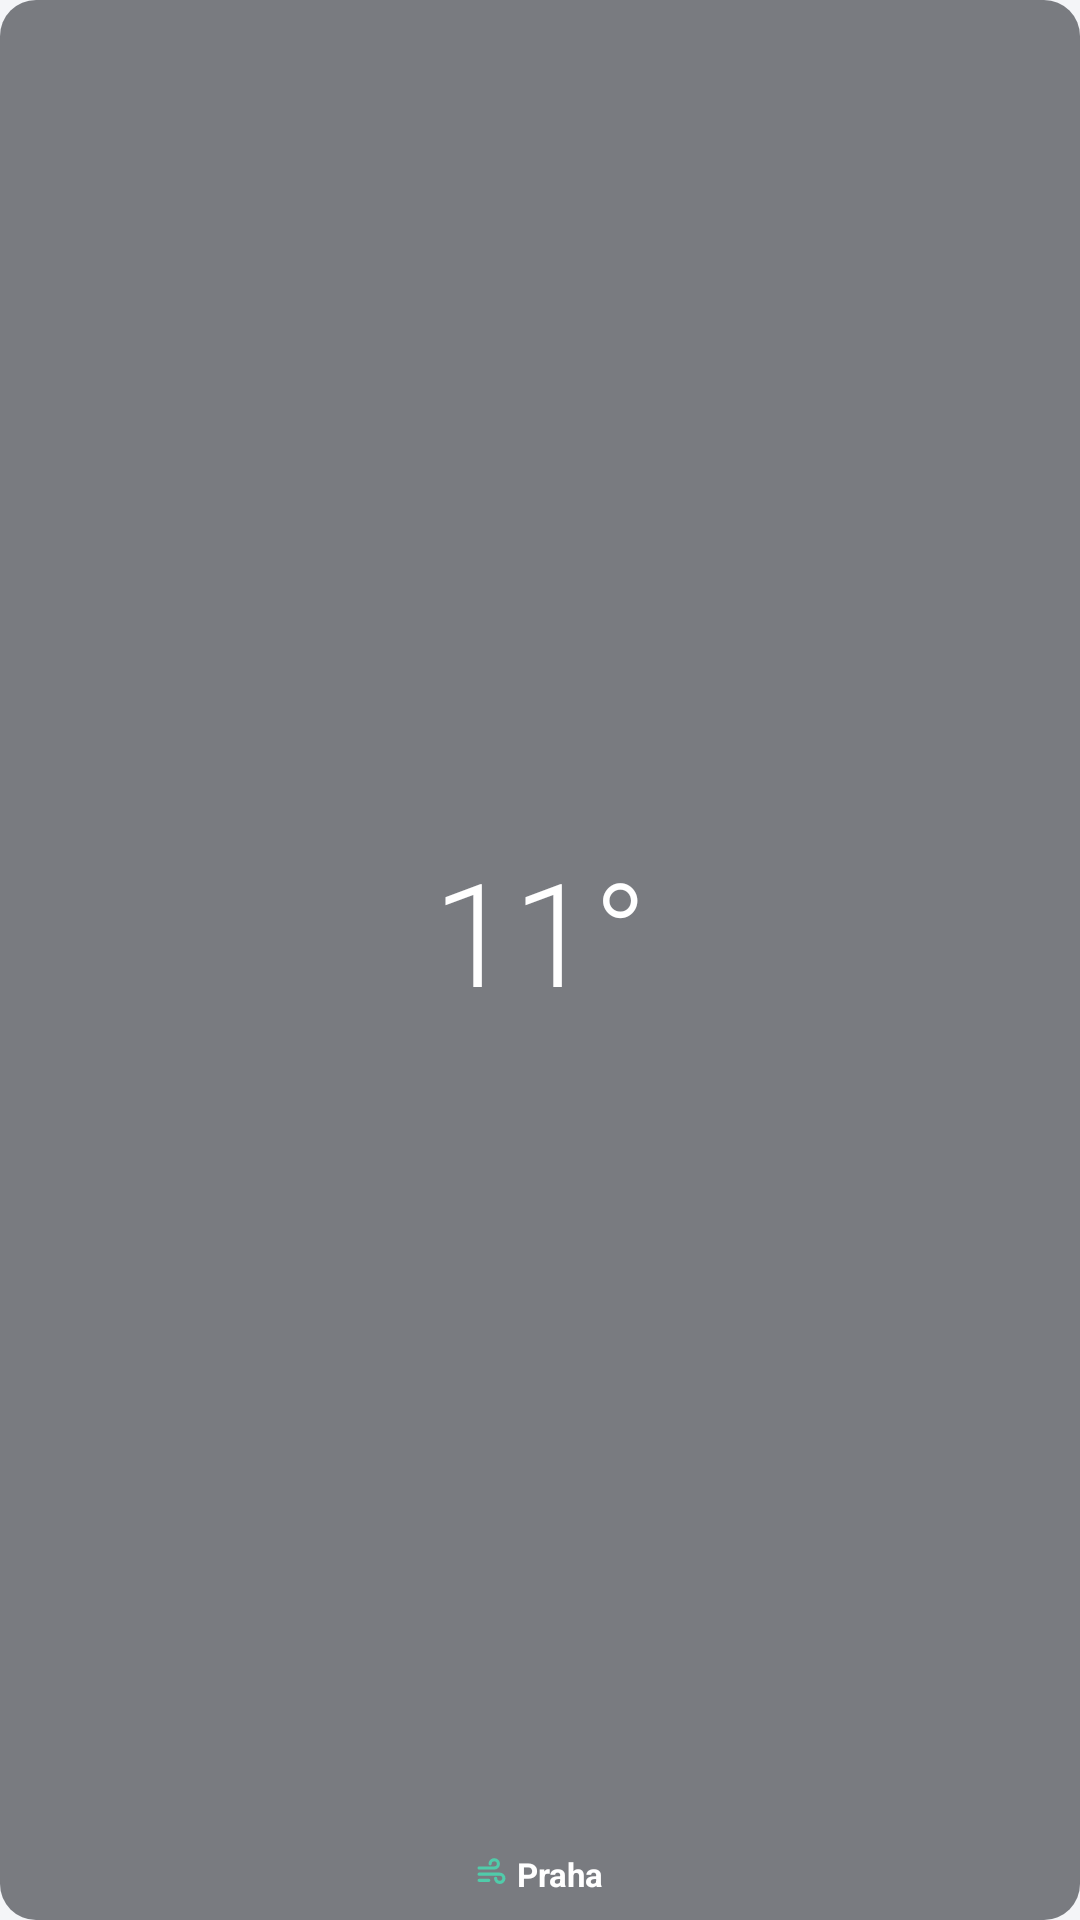

Screen size 1080px×1920px. Icon name, then its center in pixels as (x,y):
air: (491,1871)
